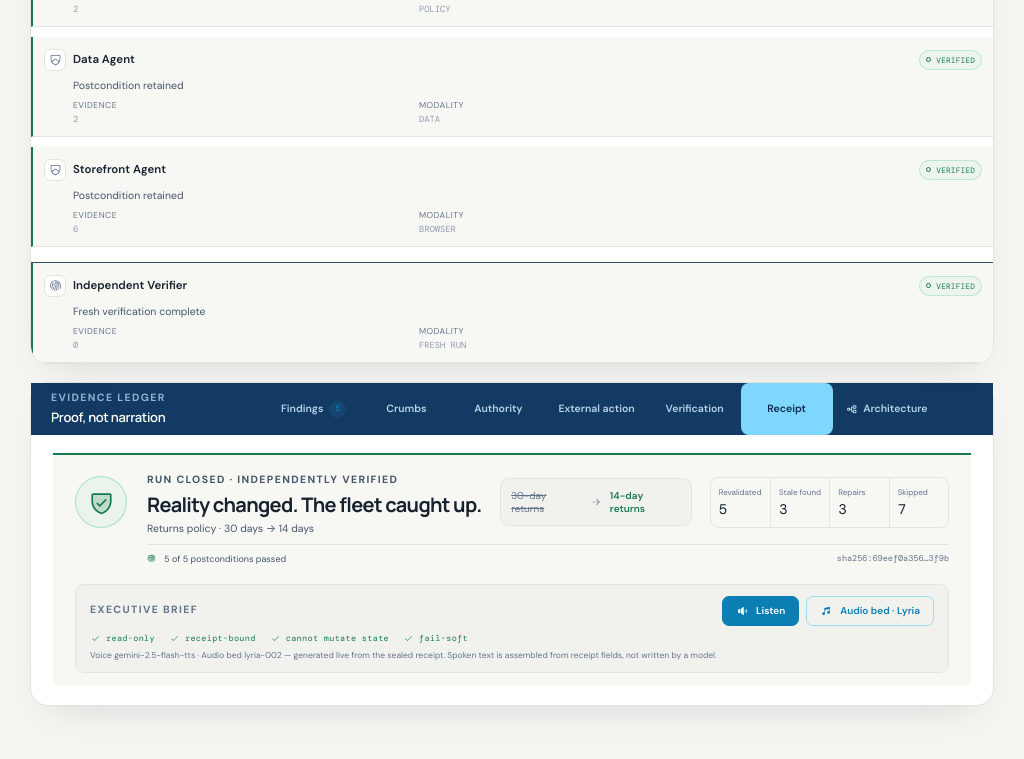
Test case: ControlPlane critical projections › says the origin reported nothing rather than showing a plausible default
This screenshot has width=1024, height=759.
(page scrolled)
Click the tab "Architecture": (887,409) [833, 383, 942, 435]
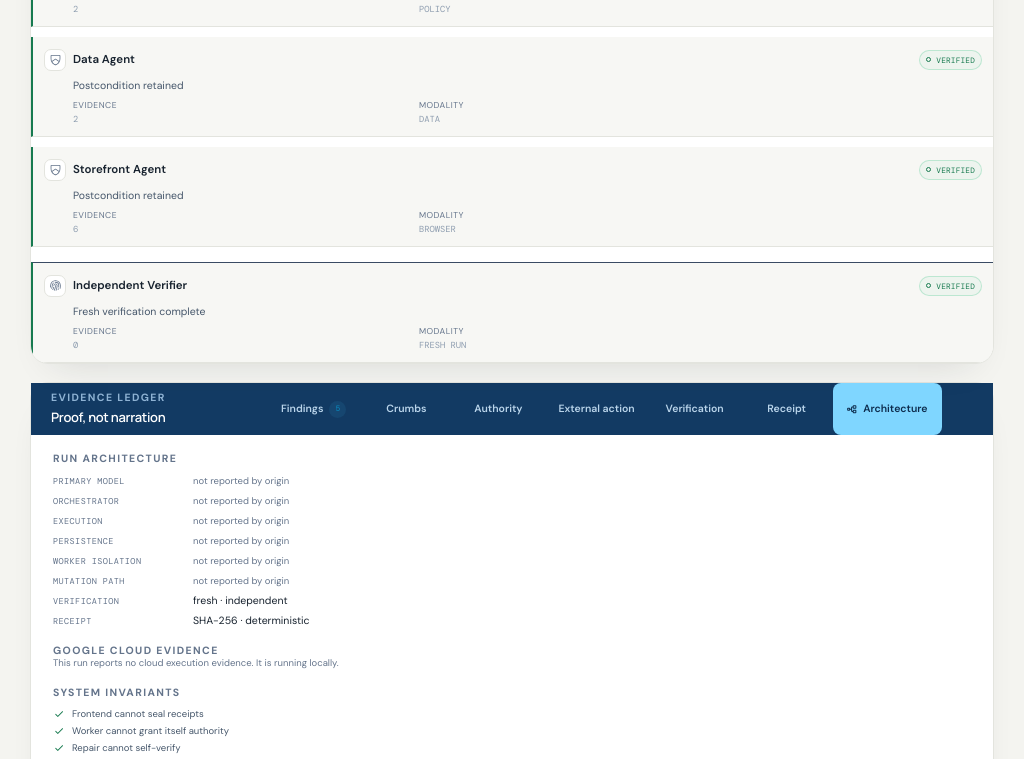
Expected: the text "not reported by origin" next to "Primary model" is shown, [193, 475, 289, 487]
Expected: the text "reports no cloud execution evidence" is shown, [53, 657, 339, 669]
